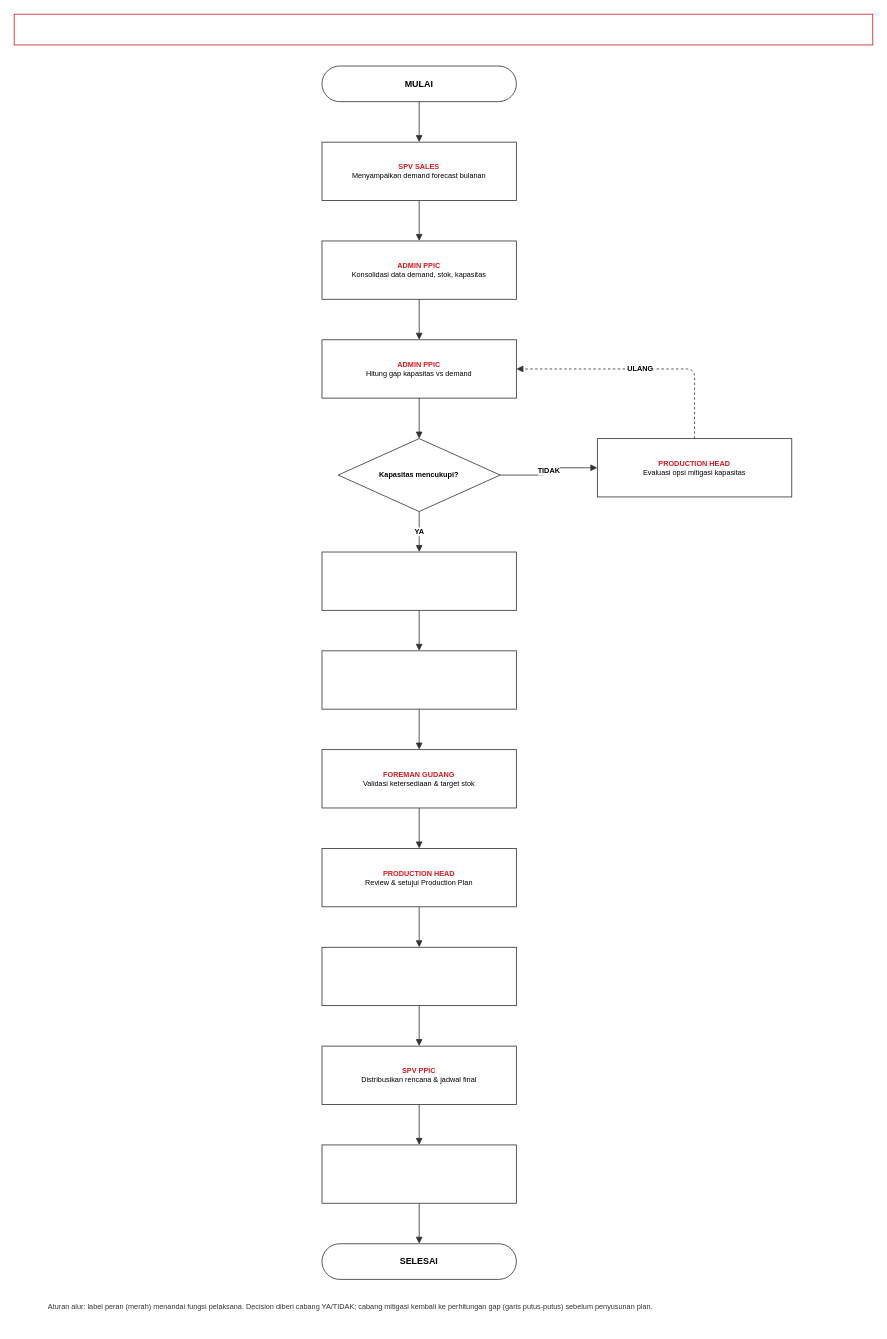
Image size: 887x1339. Some labels were removed from this diagram. Each missing label, with the centre of its shape:
"ADMIN PPIC Arsipkan Production Plan" goes at (x=418, y=1173).
"ADMIN PPIC Susun jadwal produksi mingguan/harian" goes at (x=418, y=976).
"FLOW SOP-AKSI-PPIC-01 PRODUCTION PLANNING & SCHEDULING" goes at (x=443, y=29).
"SPV PPIC Susun draft Production Plan bulanan" goes at (x=418, y=580).
"SPV PRODUKSI Validasi kapasitas line/shift" goes at (x=418, y=679).
